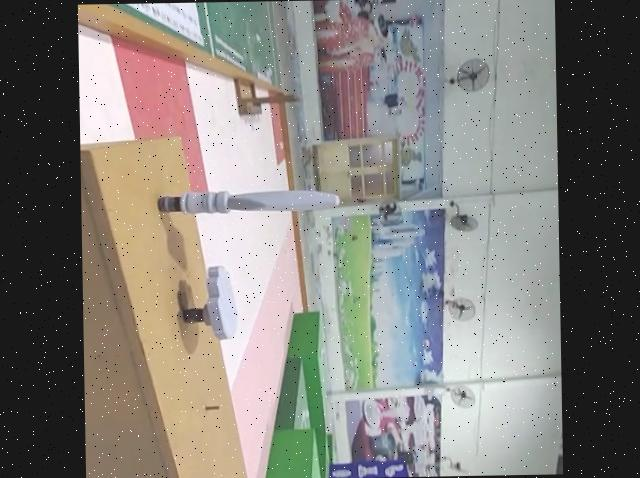Hand: (181, 266, 239, 341)
Sph: (155, 185, 342, 220)
